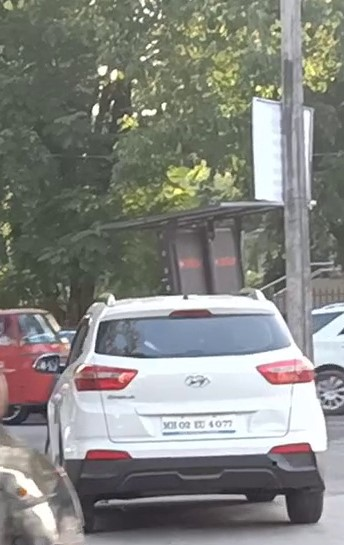MH02EU4077: (159, 415, 236, 433)
